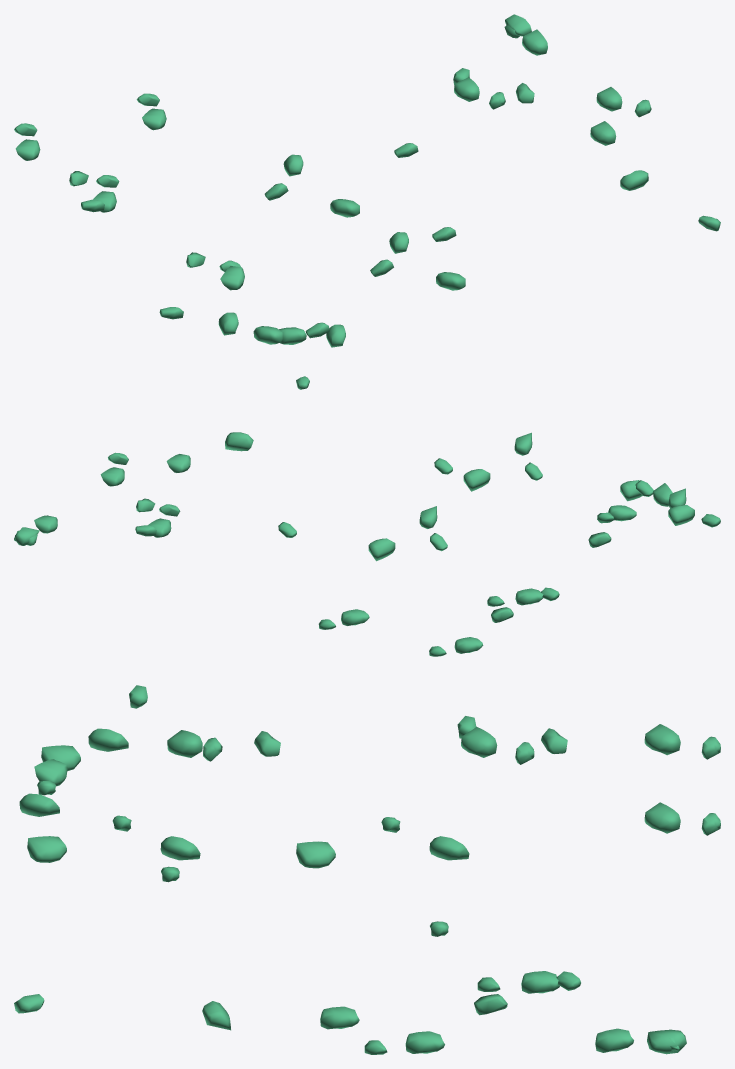
The model's file is Floor_Break_C_05B_Lod0.fbx.
3 renders of one model, top to bottom at view 1: azimuth 30°, elevation 25°; view 2: azimuth 150°, elevation 25°; view 3: azimuth 270°, elevation 25°, orthographic. The views are drawn at different scales.
Visible parts, largest first — view 1: Floor_Break_C_05B_Lod0; view 2: Floor_Break_C_05B_Lod0; view 3: Floor_Break_C_05B_Lod0.
Boxes of the visible parts, x1,y1,x2,y2 form: Floor_Break_C_05B_Lod0: (14,14,720,347); Floor_Break_C_05B_Lod0: (14,376,720,656); Floor_Break_C_05B_Lod0: (14,685,720,1054).
Size of the model in its own units: 803 by 54.9 by 661.
